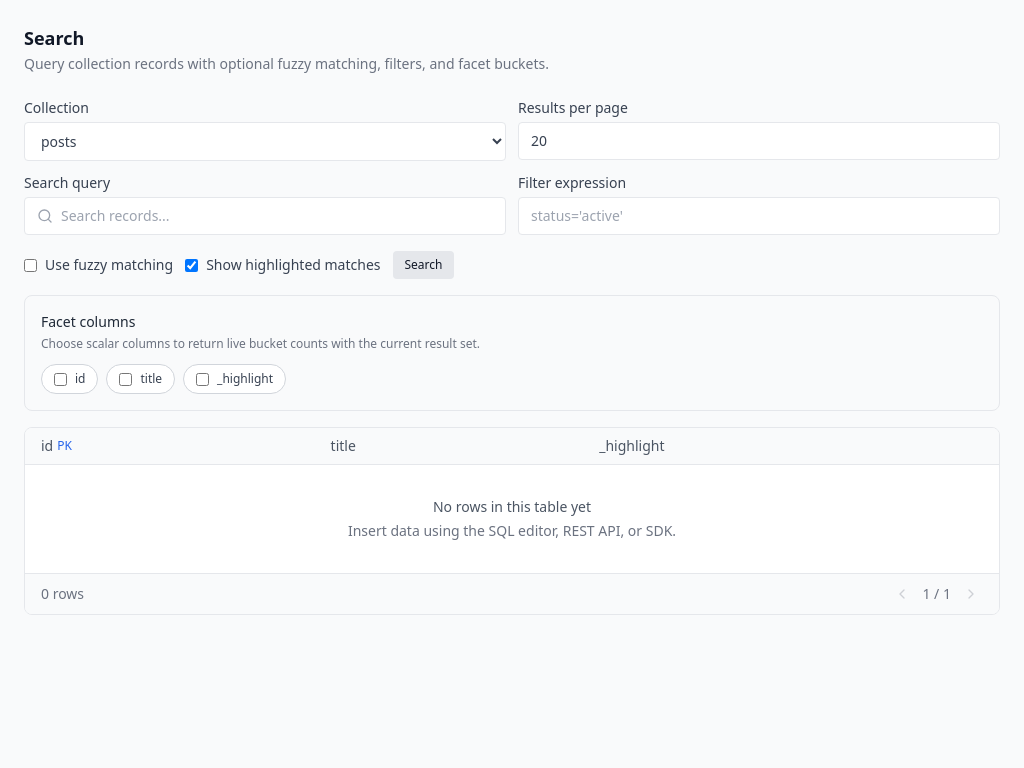
Scenario: Search › does not request generated highlights or consume real _highlight columns
This screenshot has width=1024, height=768.
Type "alpha" into the field labelled "Search query". click: (277, 216)
box: [61,206,493,226]
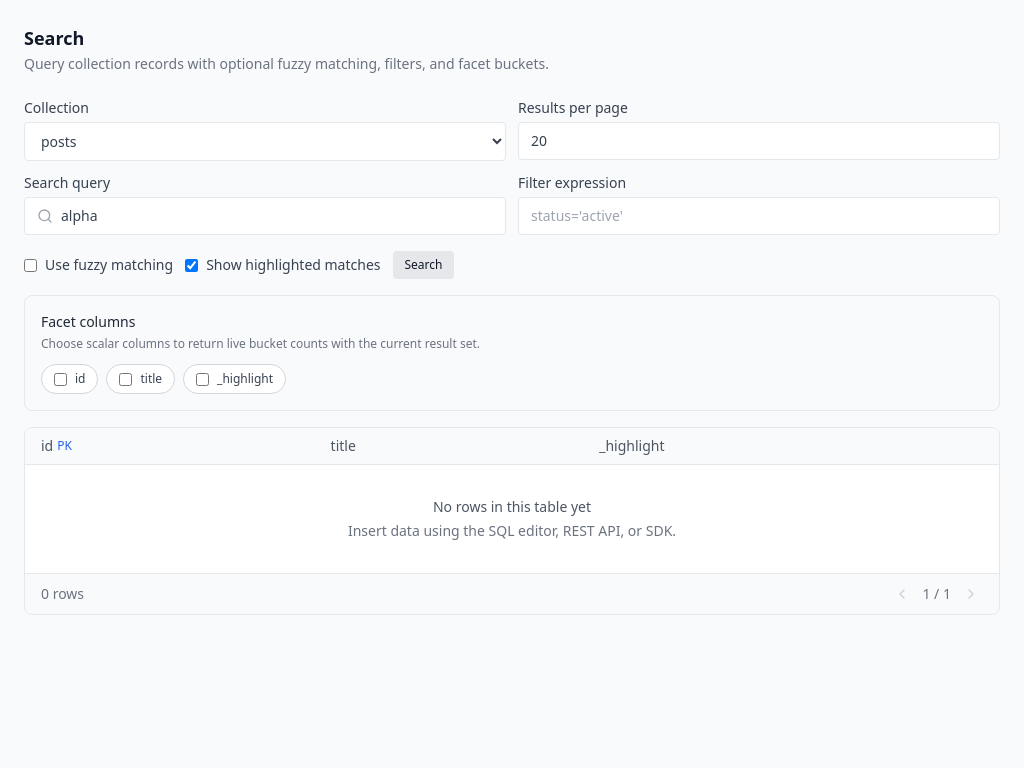
Click the button "Search". click: (424, 265)
box: [392,251,454,279]
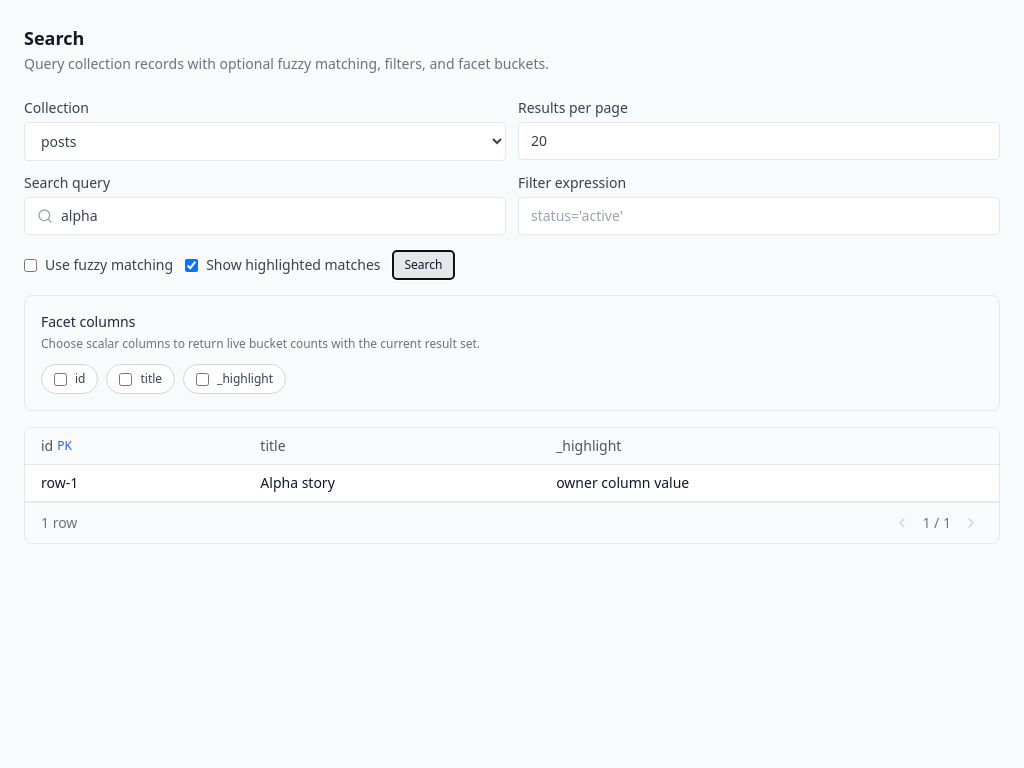
Check: the column heading "_highlight" is shown, box [540,428,999,464]
Check: the text "owner column value" is shown, box [540,464,999,502]
